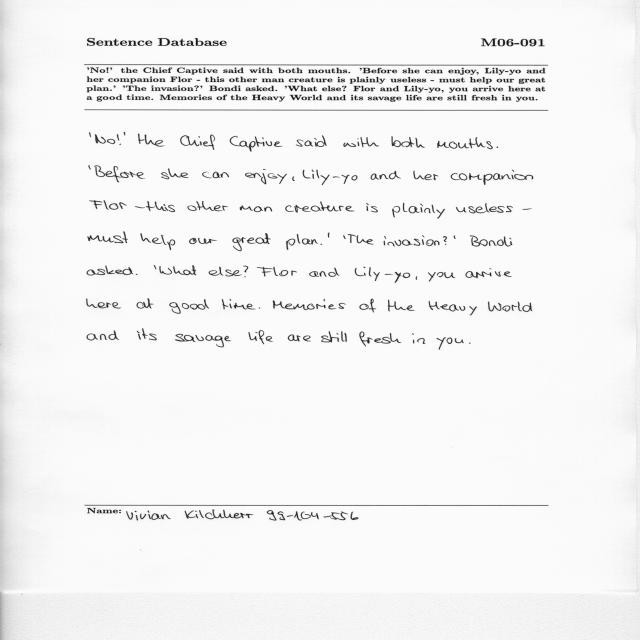word: (451, 170, 533, 185), (355, 267, 410, 283), (94, 166, 145, 183), (392, 203, 445, 219), (230, 136, 282, 152), (303, 170, 358, 185), (273, 299, 346, 310), (285, 202, 355, 213), (175, 334, 231, 347), (232, 233, 271, 251), (437, 137, 493, 149), (429, 301, 477, 315), (245, 169, 287, 184), (384, 236, 440, 247), (169, 299, 209, 314), (141, 233, 176, 250), (360, 332, 402, 346), (456, 203, 513, 213), (180, 134, 215, 150), (286, 234, 318, 250), (488, 301, 532, 312), (465, 268, 512, 278), (470, 236, 512, 247), (87, 266, 133, 276), (88, 232, 128, 243), (187, 201, 228, 211), (391, 136, 425, 148), (257, 267, 297, 277), (222, 299, 256, 310), (159, 266, 196, 276), (436, 337, 464, 350), (296, 135, 326, 147), (344, 137, 380, 147), (138, 134, 165, 147), (249, 330, 274, 344), (90, 201, 127, 210), (209, 267, 242, 277), (388, 300, 415, 312), (87, 331, 119, 341), (146, 201, 175, 212), (321, 331, 347, 343), (161, 169, 189, 180), (348, 234, 374, 245), (309, 268, 340, 277), (371, 171, 401, 180), (428, 272, 455, 281), (87, 299, 111, 309), (413, 171, 439, 180), (360, 299, 377, 312), (137, 329, 157, 340), (95, 134, 115, 144), (240, 206, 272, 212), (137, 299, 154, 309), (189, 238, 217, 244), (202, 172, 229, 178), (288, 335, 311, 342), (413, 333, 426, 344), (366, 203, 378, 212), (244, 266, 249, 277), (112, 303, 121, 309), (117, 134, 121, 145), (443, 236, 447, 245), (135, 207, 145, 209), (523, 208, 532, 210), (292, 176, 295, 181), (343, 235, 346, 239), (89, 165, 91, 170), (328, 233, 330, 238), (454, 235, 456, 239), (154, 266, 156, 270), (90, 132, 91, 137), (124, 132, 125, 136), (497, 146, 499, 148), (321, 243, 323, 245), (416, 276, 417, 280), (136, 274, 138, 275), (469, 343, 471, 344), (259, 308, 260, 309)
